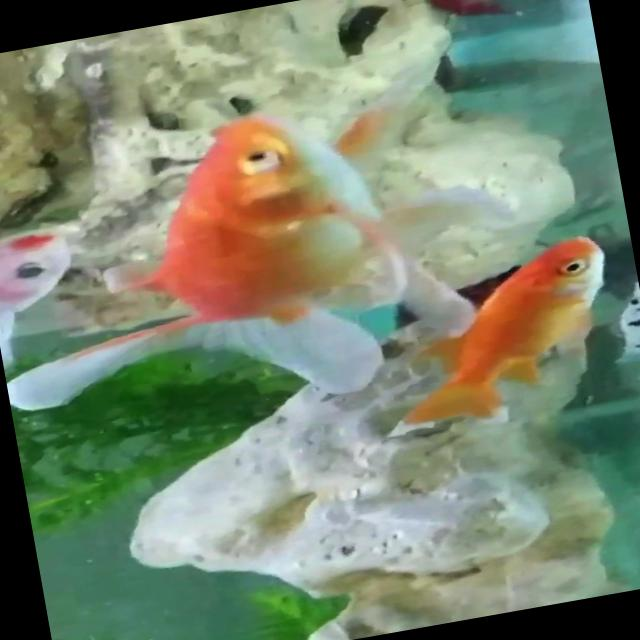GoldFish: (0, 86, 418, 473), (352, 217, 640, 453)
